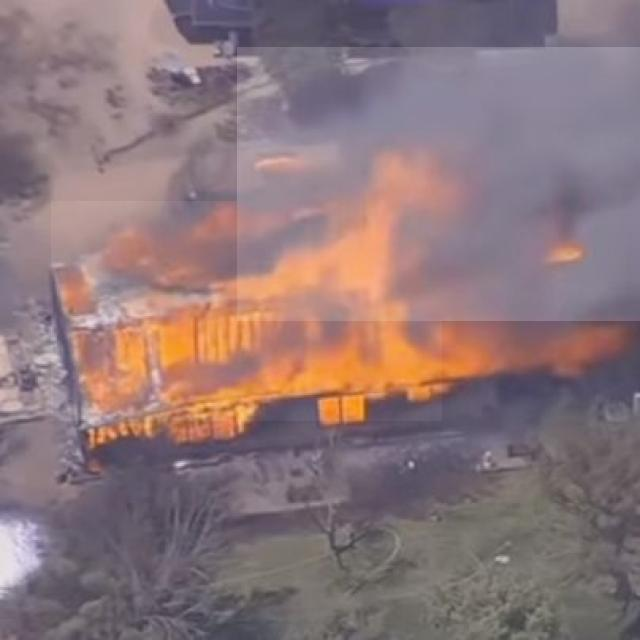Fire: (51, 201, 442, 421)
Smoke: (237, 47, 640, 321)
